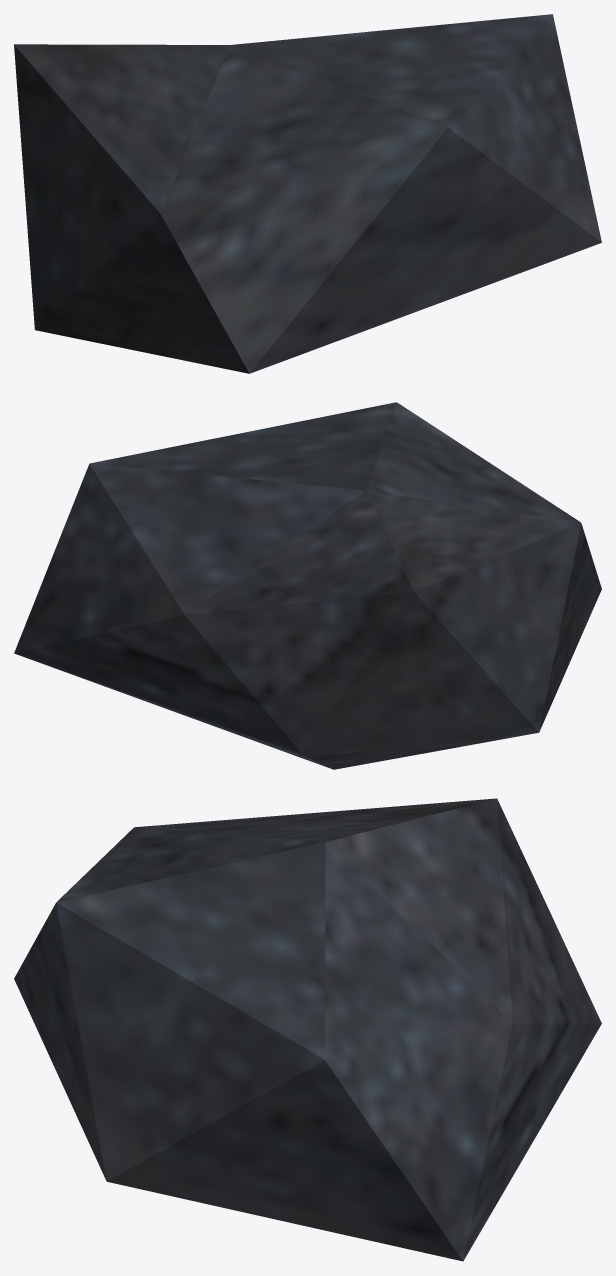
Rendered from rock.fbx.
3 views of the same model, one above another, from view 1: azimuth 30°, elevation 25°; view 2: azimuth 150°, elevation 25°; view 3: azimuth 270°, elevation 25° (orthographic). The views are drawn at different scales.
Visible parts, largest first — view 1: Icosphere; view 2: Icosphere; view 3: Icosphere.
Part boxes in pixels (x1,y1,x2,y2): Icosphere: (14,14,601,373); Icosphere: (14,402,601,769); Icosphere: (14,798,601,1261).
Bounding box in the file's own units: 217 × 126 × 191.
